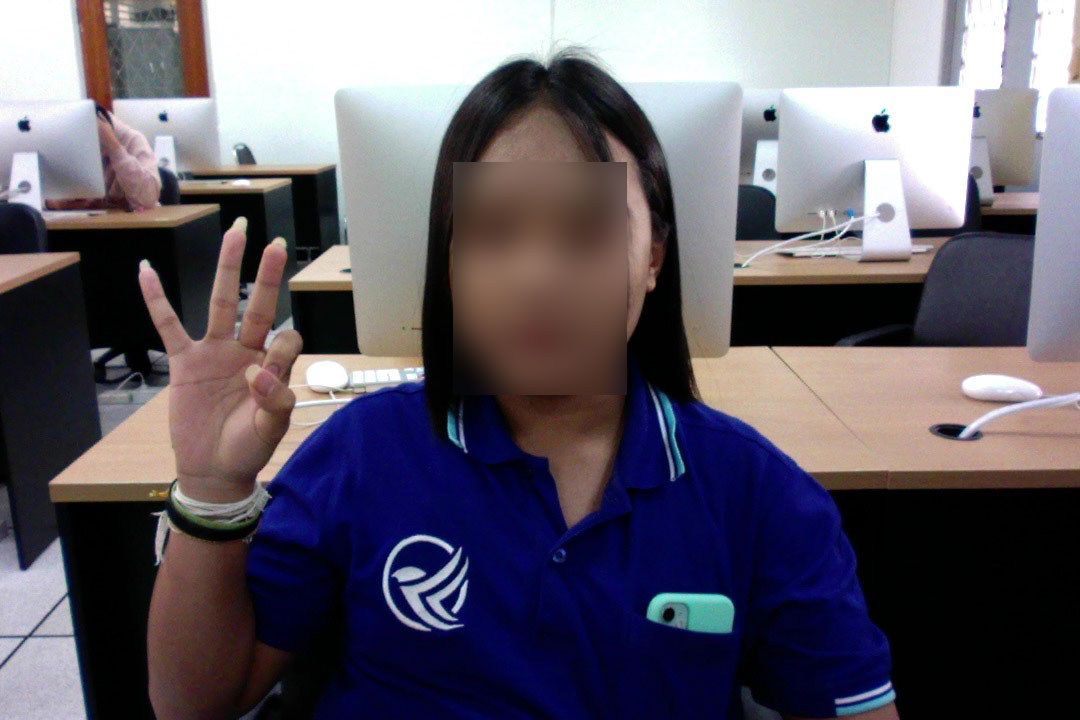for: (124, 207, 312, 500)
